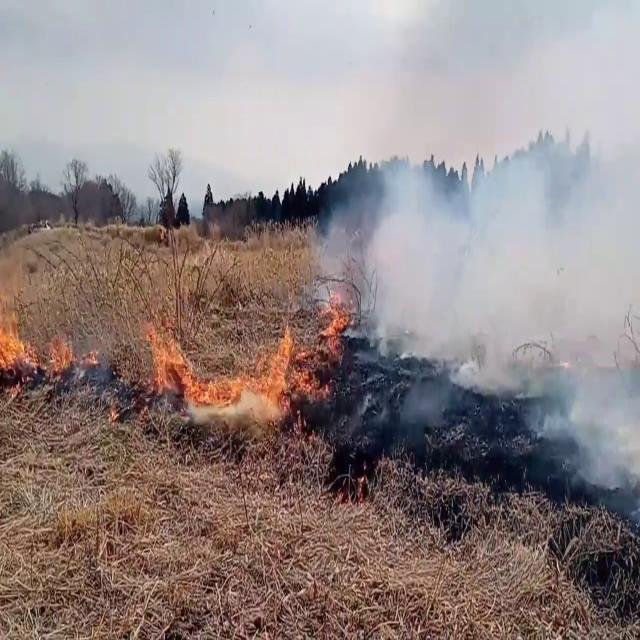Fire: (142, 308, 321, 425), (0, 284, 32, 375), (316, 284, 352, 348)
Smoke: (333, 79, 640, 462)
